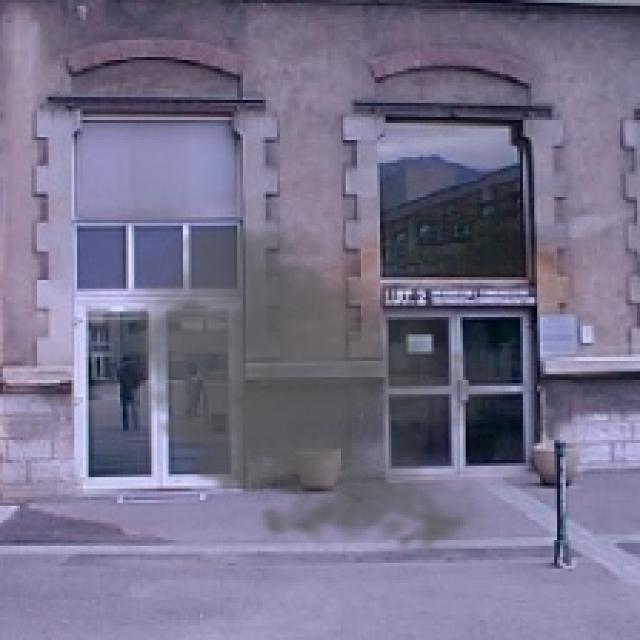Smoke: (100, 217, 512, 560)
